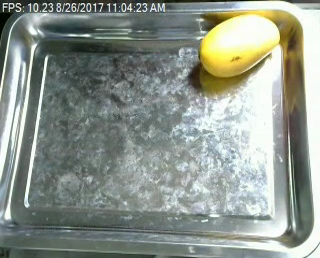Mango: (193, 12, 284, 75)
